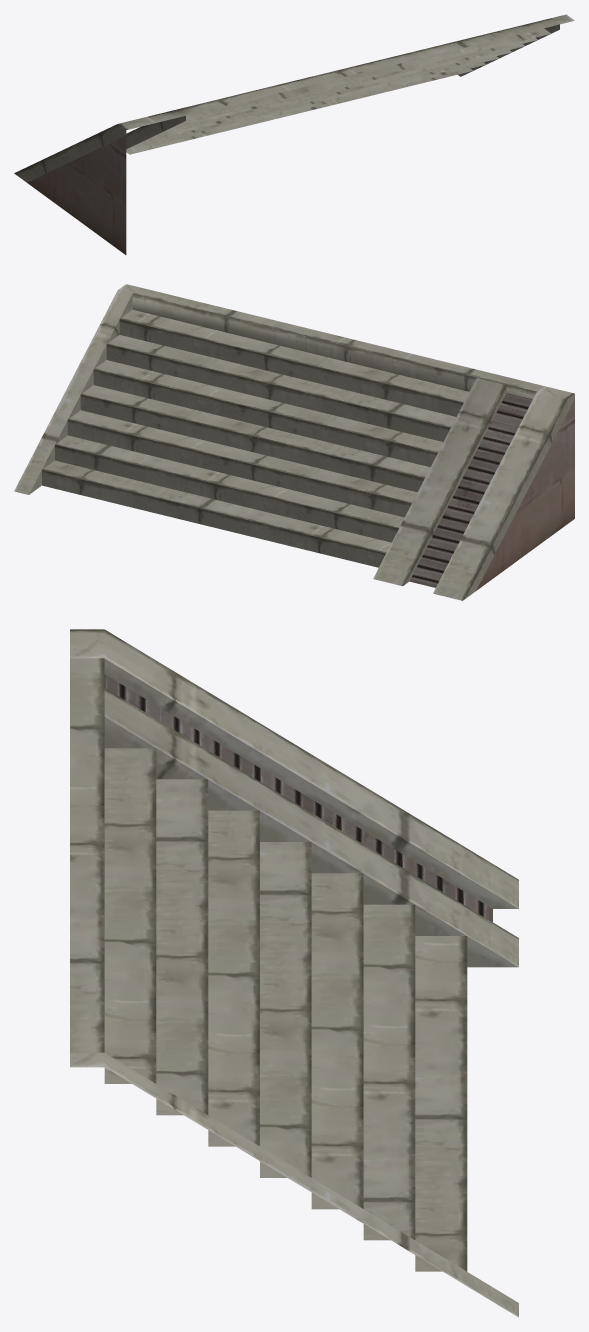
3 renders of one model, top to bottom at view 1: azimuth 30°, elevation 25°; view 2: azimuth 150°, elevation 25°; view 3: azimuth 270°, elevation 25°, orthographic. The views are drawn at different scales.
Visible parts, largest first — view 1: body0_model0_lod0_mesh0, body0_model0_lod0_mesh1; view 2: body0_model0_lod0_mesh0, body0_model0_lod0_mesh1, body0_model0_lod0_mesh2; view 3: body0_model0_lod0_mesh0, body0_model0_lod0_mesh2.
Part boxes in pixels (<box>): body0_model0_lod0_mesh0: <box>14,14,574,182</box>; body0_model0_lod0_mesh1: <box>27,136,126,254</box>; body0_model0_lod0_mesh0: <box>14,284,574,600</box>; body0_model0_lod0_mesh1: <box>476,399,574,590</box>; body0_model0_lod0_mesh2: <box>409,393,532,587</box>; body0_model0_lod0_mesh0: <box>70,629,518,1317</box>; body0_model0_lod0_mesh2: <box>104,674,492,921</box>.
Bounding box in the file's own units: 240 × 64 × 104.
3 materials, 3 textured.
